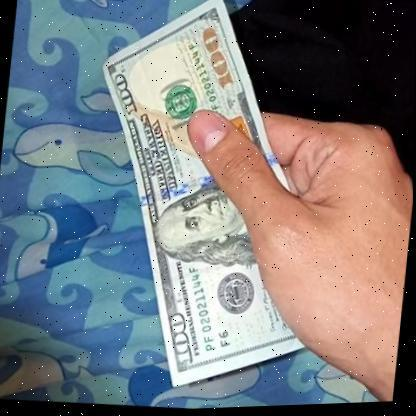dollar_front: (72, 0, 333, 393)
